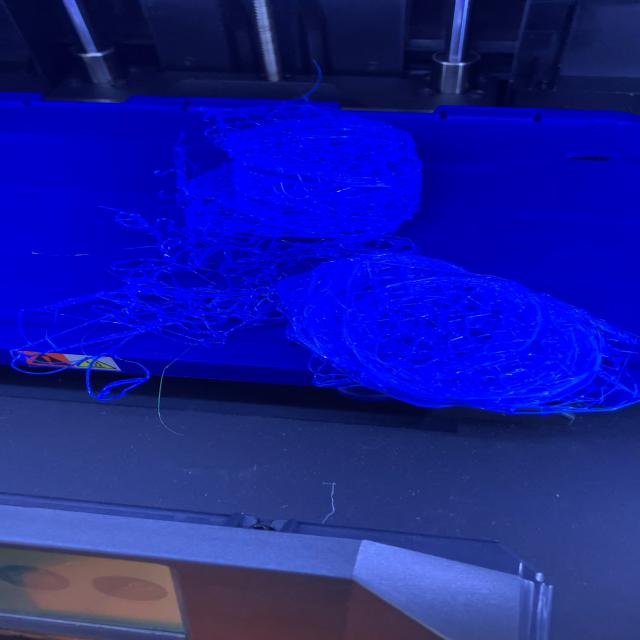spaghetti: (10, 94, 637, 417), (273, 251, 639, 415)
